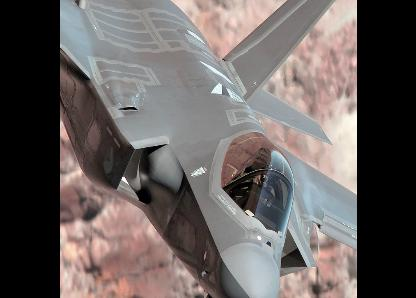F22: (60, 0, 358, 295)
